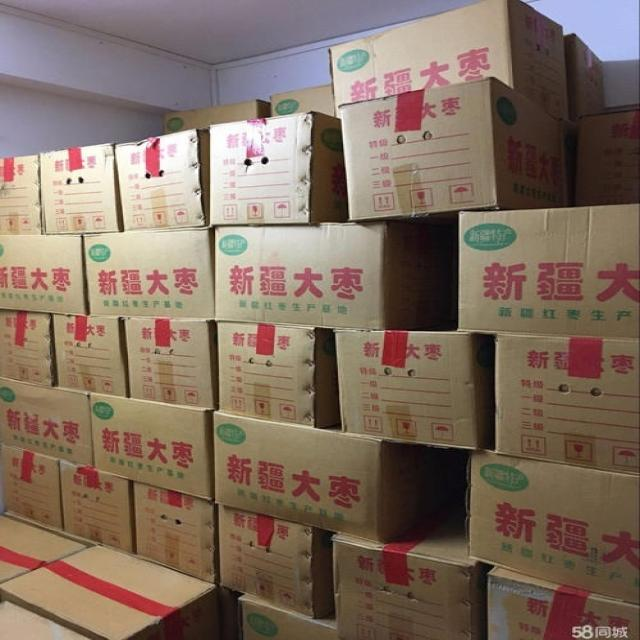box: (338, 77, 559, 222), (329, 0, 571, 121), (467, 449, 640, 605), (457, 203, 640, 339), (214, 412, 384, 542), (495, 334, 640, 475), (1, 546, 215, 640), (334, 327, 492, 450), (215, 223, 385, 329), (333, 532, 481, 640), (209, 111, 349, 225), (92, 391, 212, 500), (84, 225, 218, 320), (218, 505, 314, 618), (218, 320, 316, 427), (114, 128, 210, 232), (1, 375, 93, 467), (134, 482, 214, 583), (125, 319, 214, 409), (40, 141, 119, 235), (0, 233, 86, 316), (58, 460, 133, 554), (576, 109, 640, 207), (52, 313, 127, 396), (1, 444, 64, 533), (241, 594, 343, 640), (0, 308, 52, 386), (0, 600, 95, 640), (164, 99, 271, 133), (563, 33, 604, 117), (0, 154, 40, 236), (270, 84, 337, 117)
